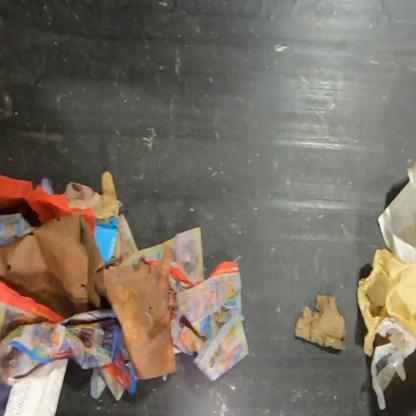cardboard: (62, 170, 140, 266), (294, 292, 348, 351)
soft_plastic: (370, 319, 415, 411)
